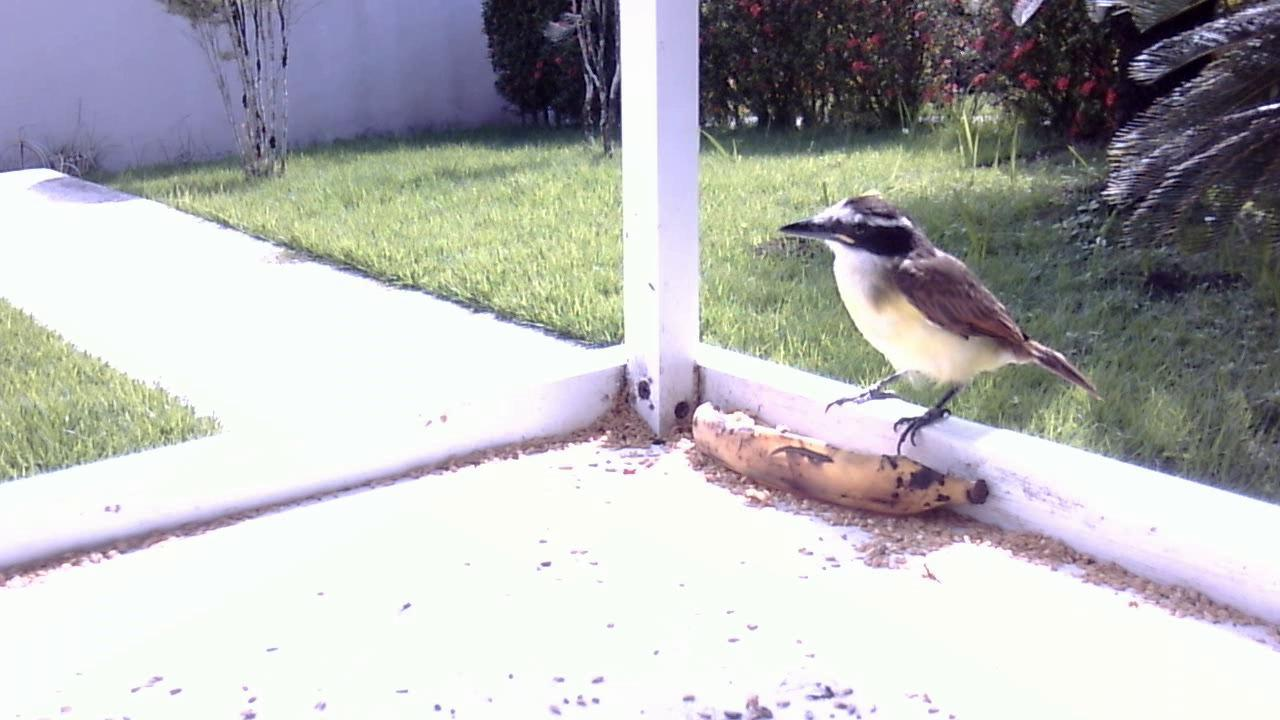bem_te_vi: (762, 184, 1110, 470)
